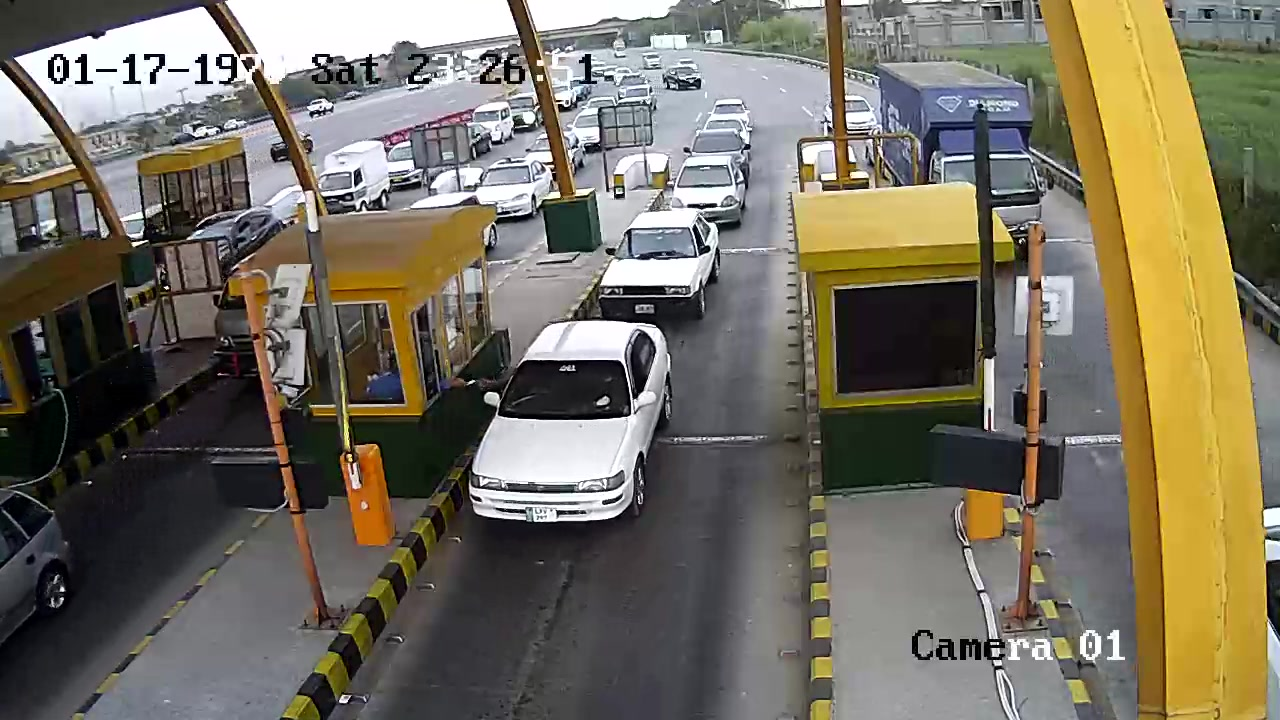F1: (469, 313, 679, 529)
